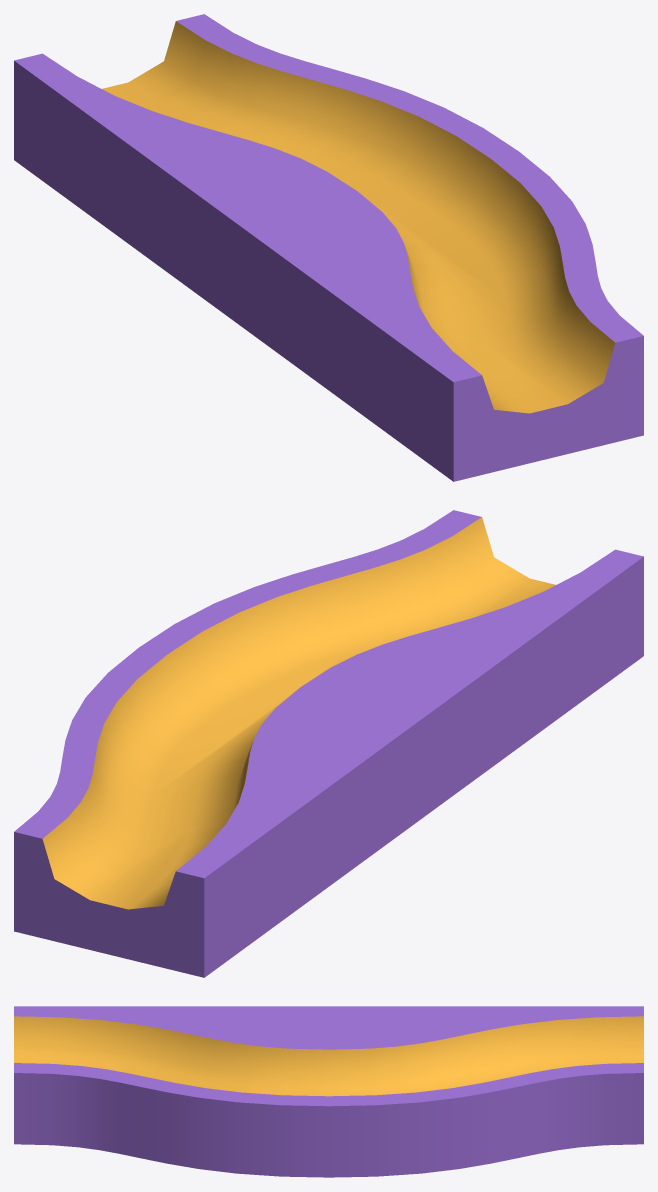
The model's file is wave-solid-b.glb.
3 views of the same model, one above another, from view 1: azimuth 30°, elevation 25°; view 2: azimuth 150°, elevation 25°; view 3: azimuth 270°, elevation 25° (orthographic). The views are drawn at different scales.
Parts seen in each view (by area): view 1: wave-solid-b; view 2: wave-solid-b; view 3: wave-solid-b.
Boxes of the visible parts, x1,y1,x2,y2 form: wave-solid-b: (14, 14, 643, 481); wave-solid-b: (14, 510, 643, 977); wave-solid-b: (14, 1006, 643, 1177).
Size of the model in its own units: 1.5 by 0.5 by 4.
1 material, 1 textured.
